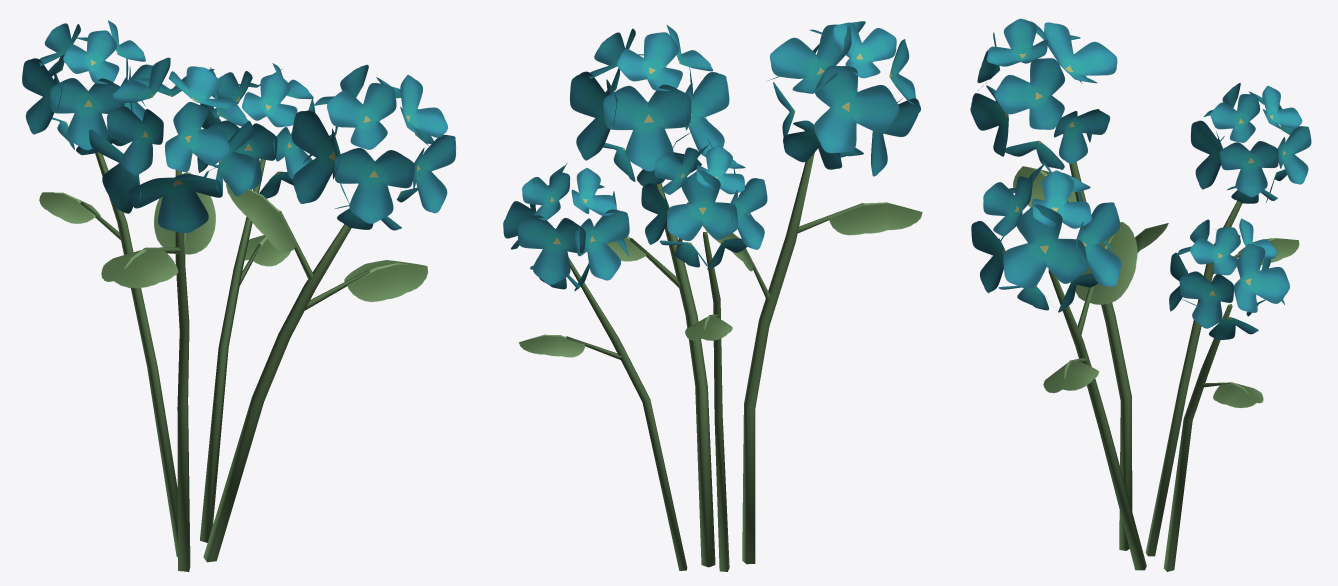
The model's file is Flower_1.glb.
3 views of the same model, side by side, from view 1: azimuth 30°, elevation 25°; view 2: azimuth 150°, elevation 25°; view 3: azimuth 270°, elevation 25° (orthographic). The views are drawn at different scales.
Visible parts, largest first — view 1: Flower_1_Clump; view 2: Flower_1_Clump; view 3: Flower_1_Clump.
Part boxes in pixels (box(x1,y1,x2,y2)): Flower_1_Clump: box(22, 20, 455, 571); Flower_1_Clump: box(503, 21, 922, 571); Flower_1_Clump: box(970, 18, 1311, 571).
Bounding box in the file's own units: 0.4711 × 0.6713 × 0.4352.
Materials: 1 (1 with a texture image).
